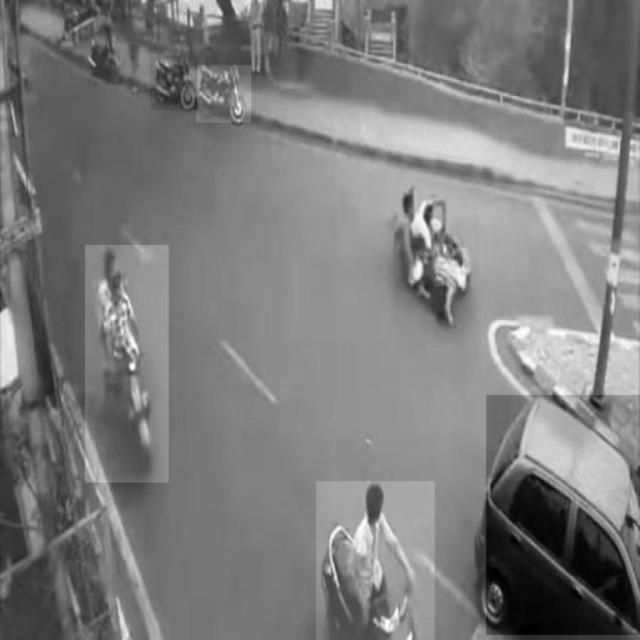accident: (394, 189, 478, 323)
vehicle: (486, 395, 640, 635), (85, 246, 168, 483), (317, 481, 435, 639), (197, 66, 252, 123), (150, 56, 197, 110)
